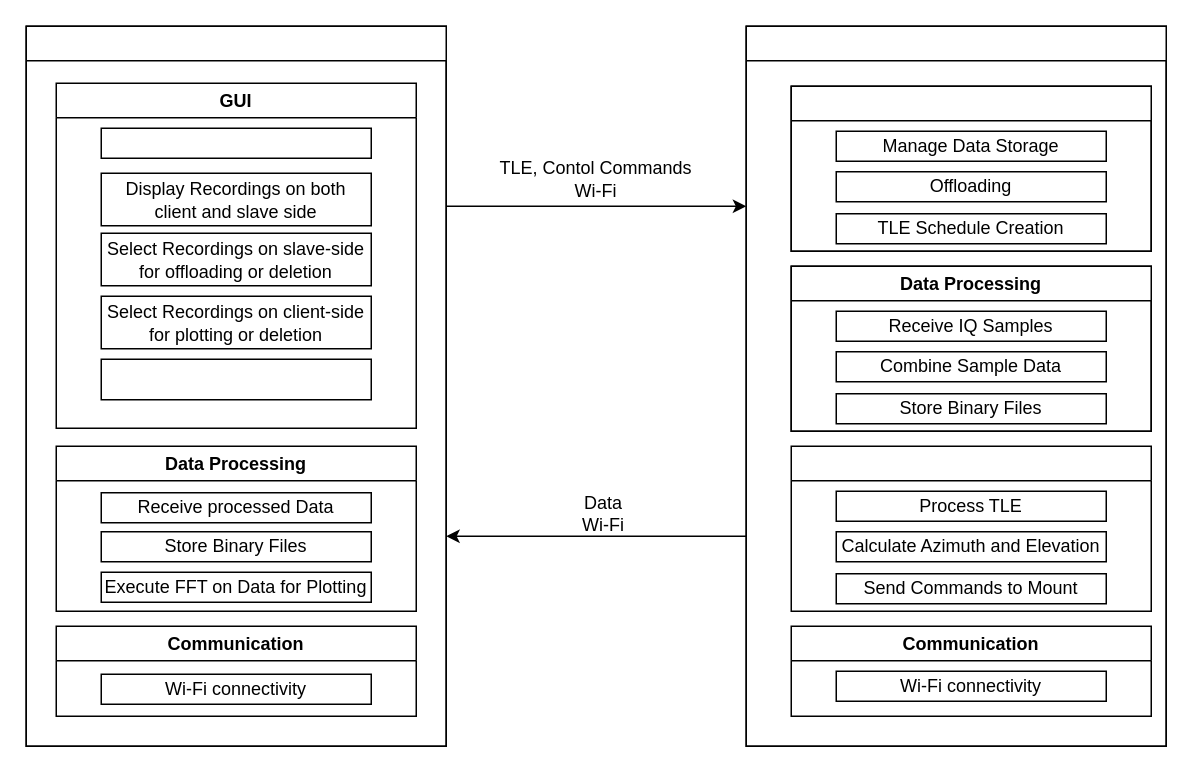
Some shapes in this 1193 by 773 pixel diagram are drawn without their labels. Each missing label, with the box of its shape:
Accepts Fixed Azimuth & Elevation for testing: (100, 358, 371, 400)
Client-Side Software: (25, 25, 446, 746)
Command Processing: (790, 445, 1151, 611)
Data Management: (790, 85, 1151, 251)
Slave-Side Software: (745, 25, 1166, 746)
TLE Input via txt file: (100, 127, 371, 158)
